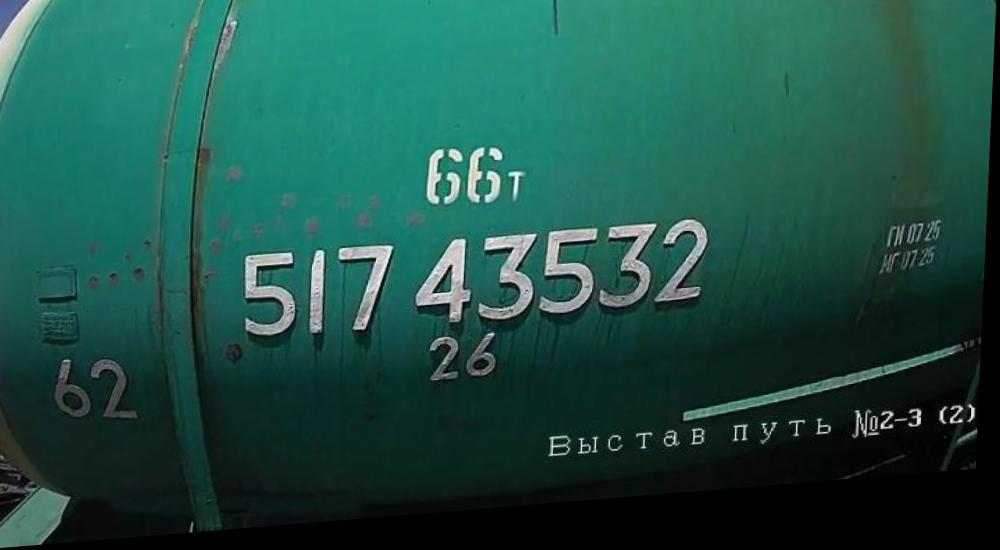Wagon-number: (240, 223, 718, 352)
